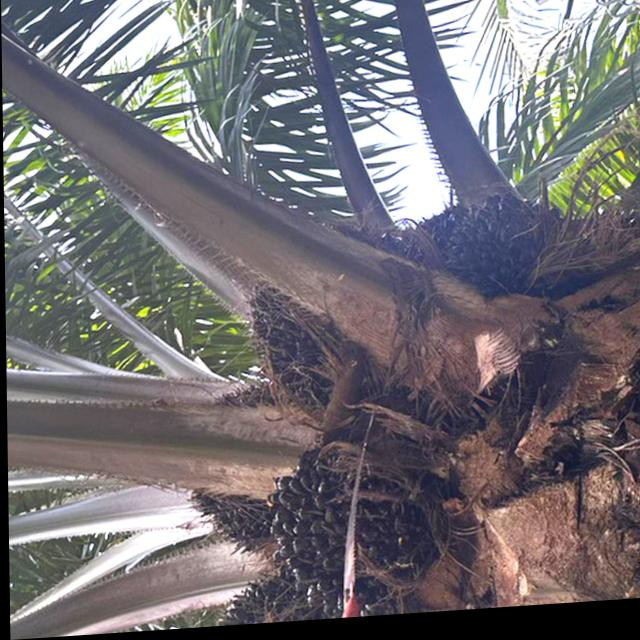unripe: (269, 411, 448, 624), (416, 186, 551, 308), (237, 279, 361, 406), (205, 570, 406, 630), (177, 483, 276, 571)
